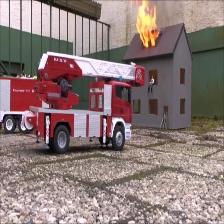fire: (136, 0, 158, 48)
